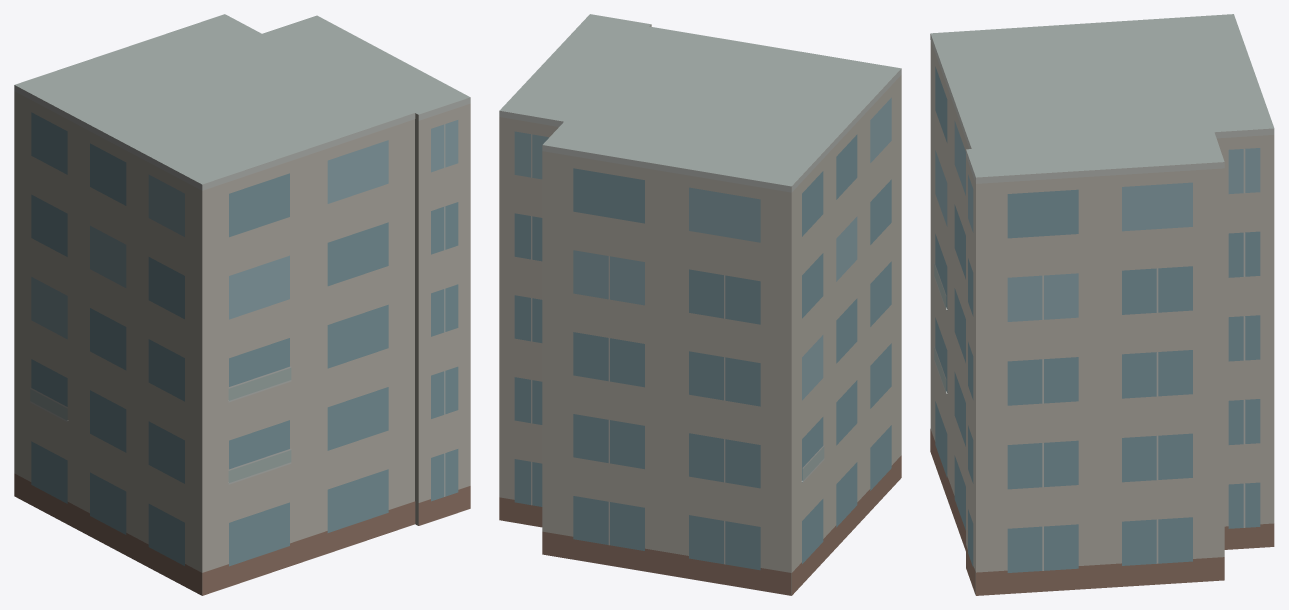
File: survey-upis-33035547.glb
3 views of the same model, side by side, from view 1: azimuth 30°, elevation 25°; view 2: azimuth 150°, elevation 25°; view 3: azimuth 270°, elevation 25° (orthographic). The views are drawn at different scales.
Visible parts, largest first — view 1: survey-upis-33035547.tmp; view 2: survey-upis-33035547.tmp; view 3: survey-upis-33035547.tmp.
Boxes of the visible parts, box(x1,y1,x2,y2) form: survey-upis-33035547.tmp: box(14, 14, 470, 595); survey-upis-33035547.tmp: box(499, 14, 901, 595); survey-upis-33035547.tmp: box(930, 14, 1274, 595).
Bounding box in the file's own units: 13.51 × 16.1 × 12.01.
